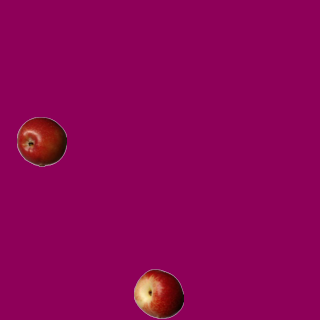Apple Braeburn: (16, 116, 66, 166)
Nectarine: (133, 268, 183, 318)
